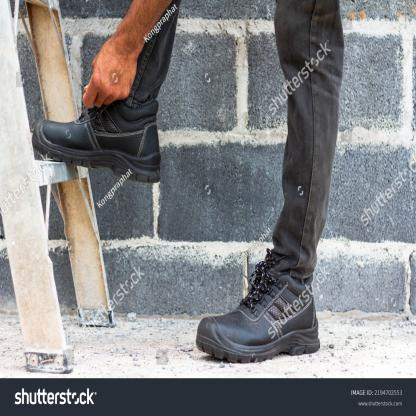bota: (194, 262, 321, 368), (32, 89, 164, 184)
